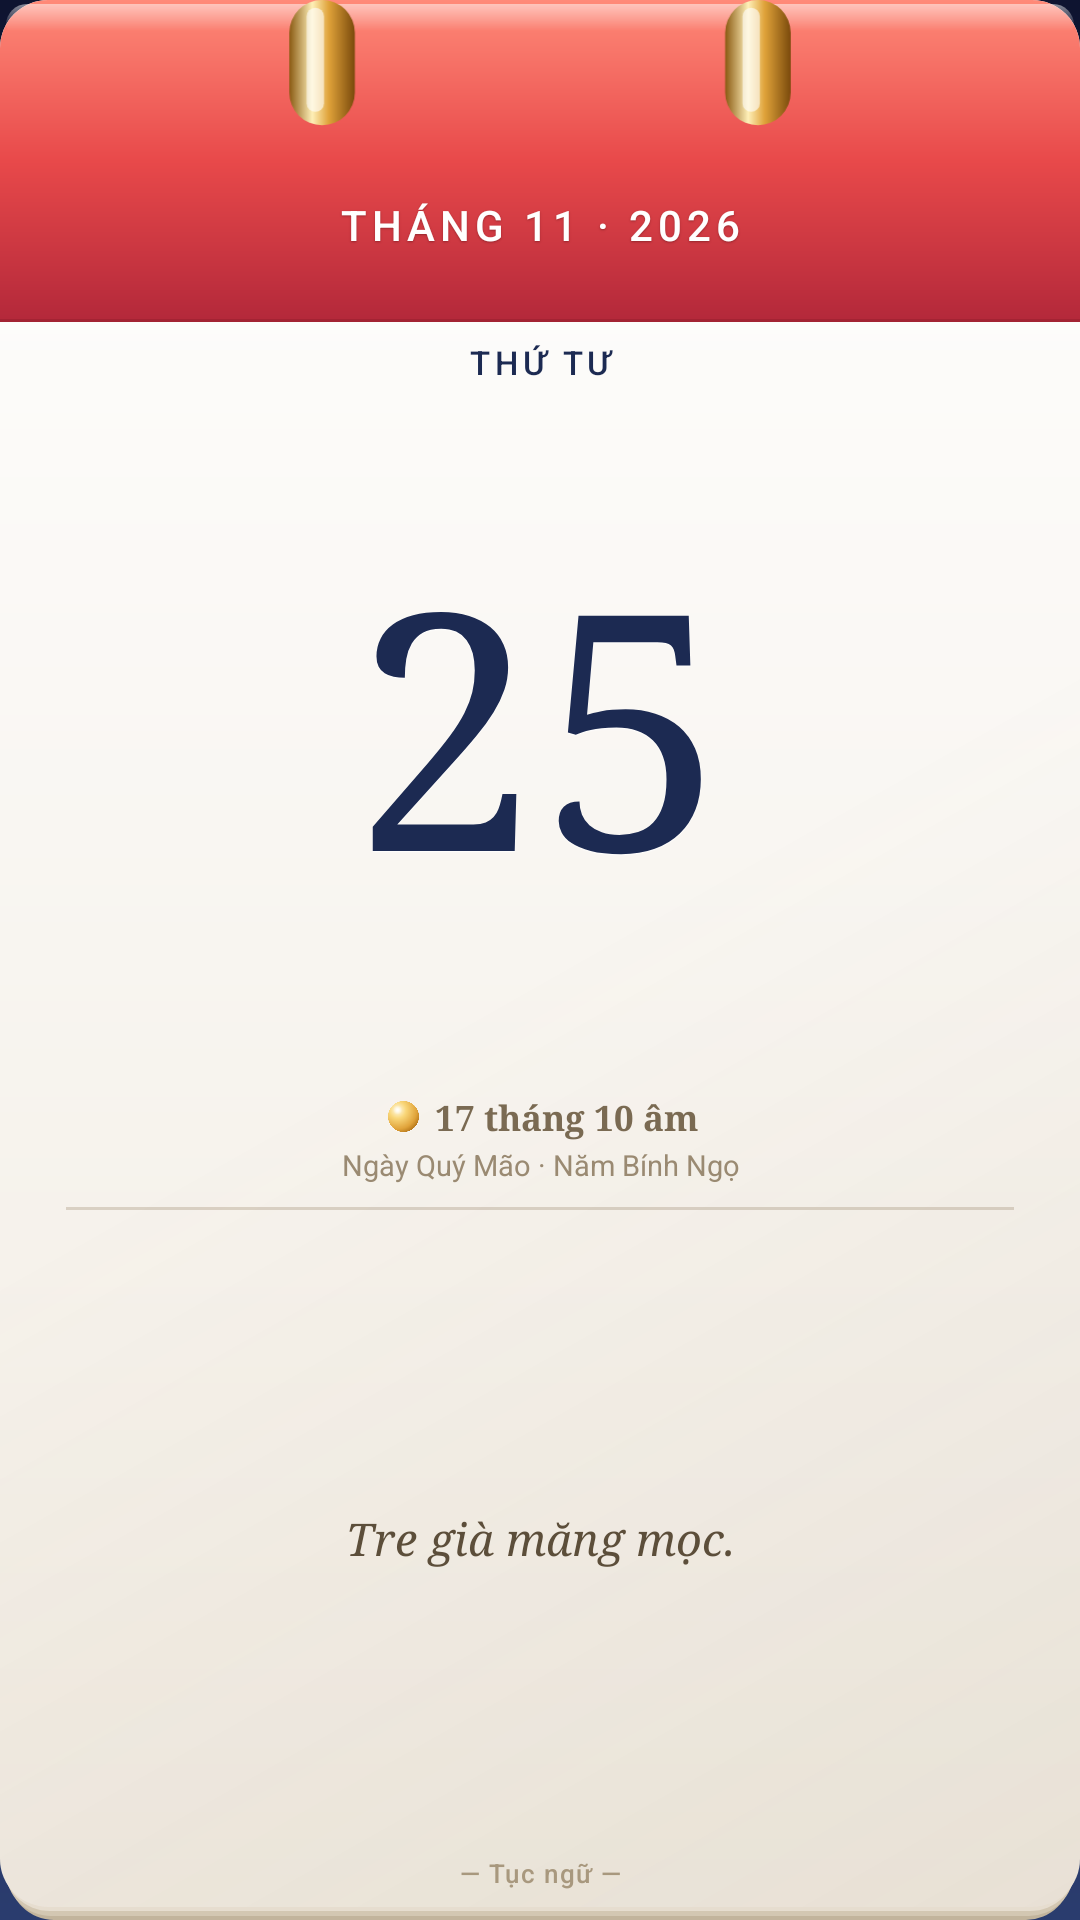

Where to tap for icons on this 1080×1920 app screen, as [x,y]:
moonp: [403,1116]
